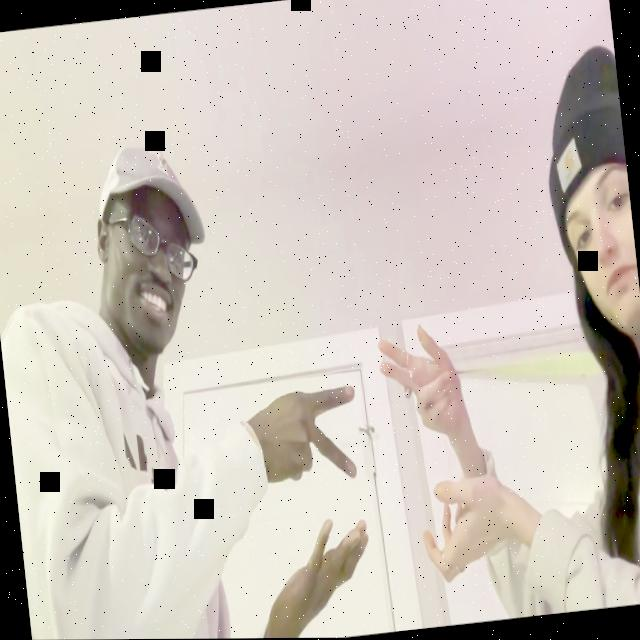Scissors: (252, 380, 362, 488), (376, 321, 466, 448)
